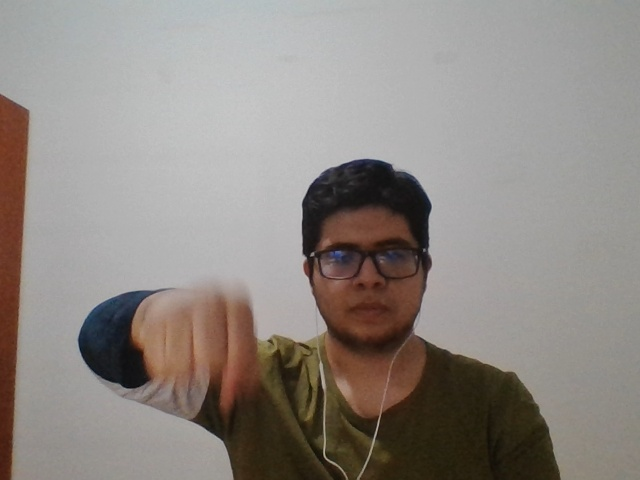Yes: (124, 267, 262, 407)
